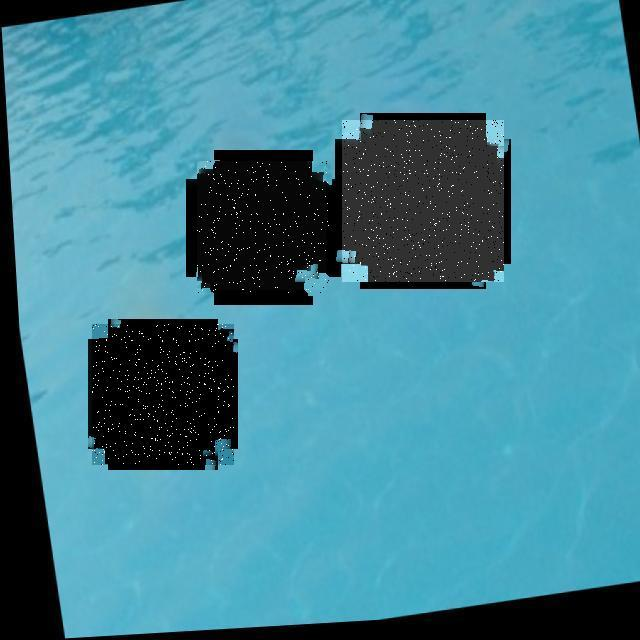swimming: (342, 120, 504, 282), (92, 324, 234, 465), (198, 162, 330, 294)
